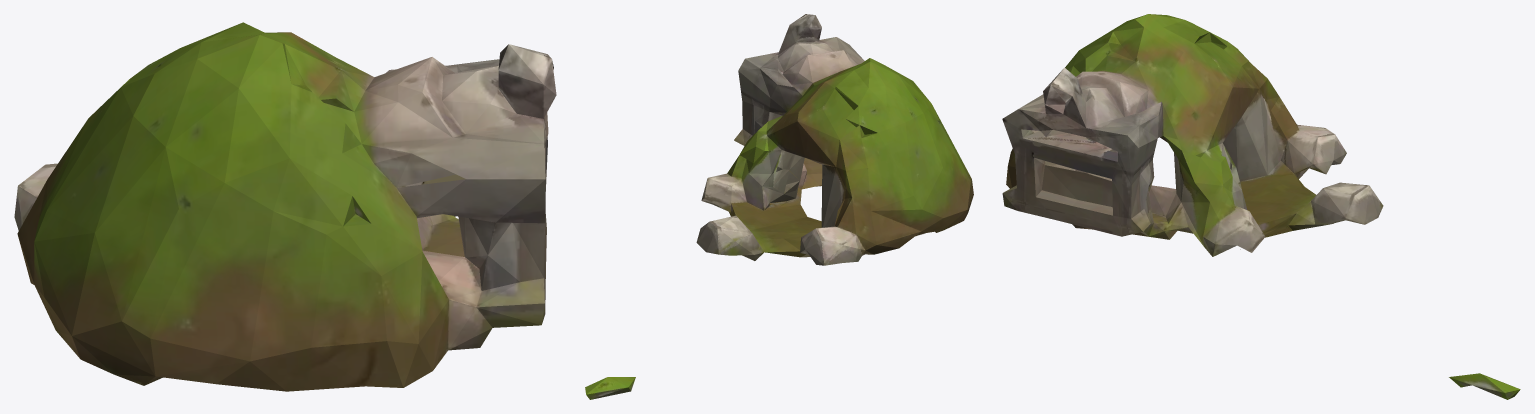
The model's file is barrow-entrance.glb.
3 views of the same model, side by side, from view 1: azimuth 30°, elevation 25°; view 2: azimuth 150°, elevation 25°; view 3: azimuth 270°, elevation 25° (orthographic). The views are drawn at different scales.
Visible parts, largest first — view 1: barrow-entrance; view 2: barrow-entrance; view 3: barrow-entrance.
Boxes of the visible parts, box(x1,y1,x2,y2) form: barrow-entrance: box(14, 22, 556, 391); barrow-entrance: box(585, 14, 973, 399); barrow-entrance: box(1002, 14, 1520, 399).
Bounding box in the file's own units: 4.37 × 4.59 × 7.
Materials: 1 (1 with a texture image).
